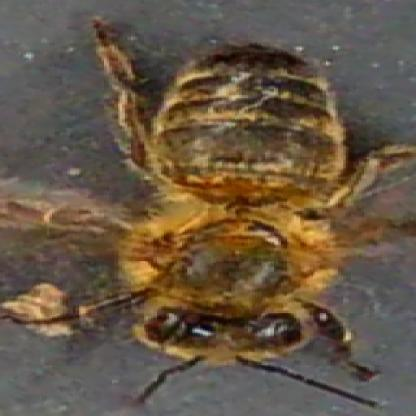bee: (123, 50, 353, 353)
